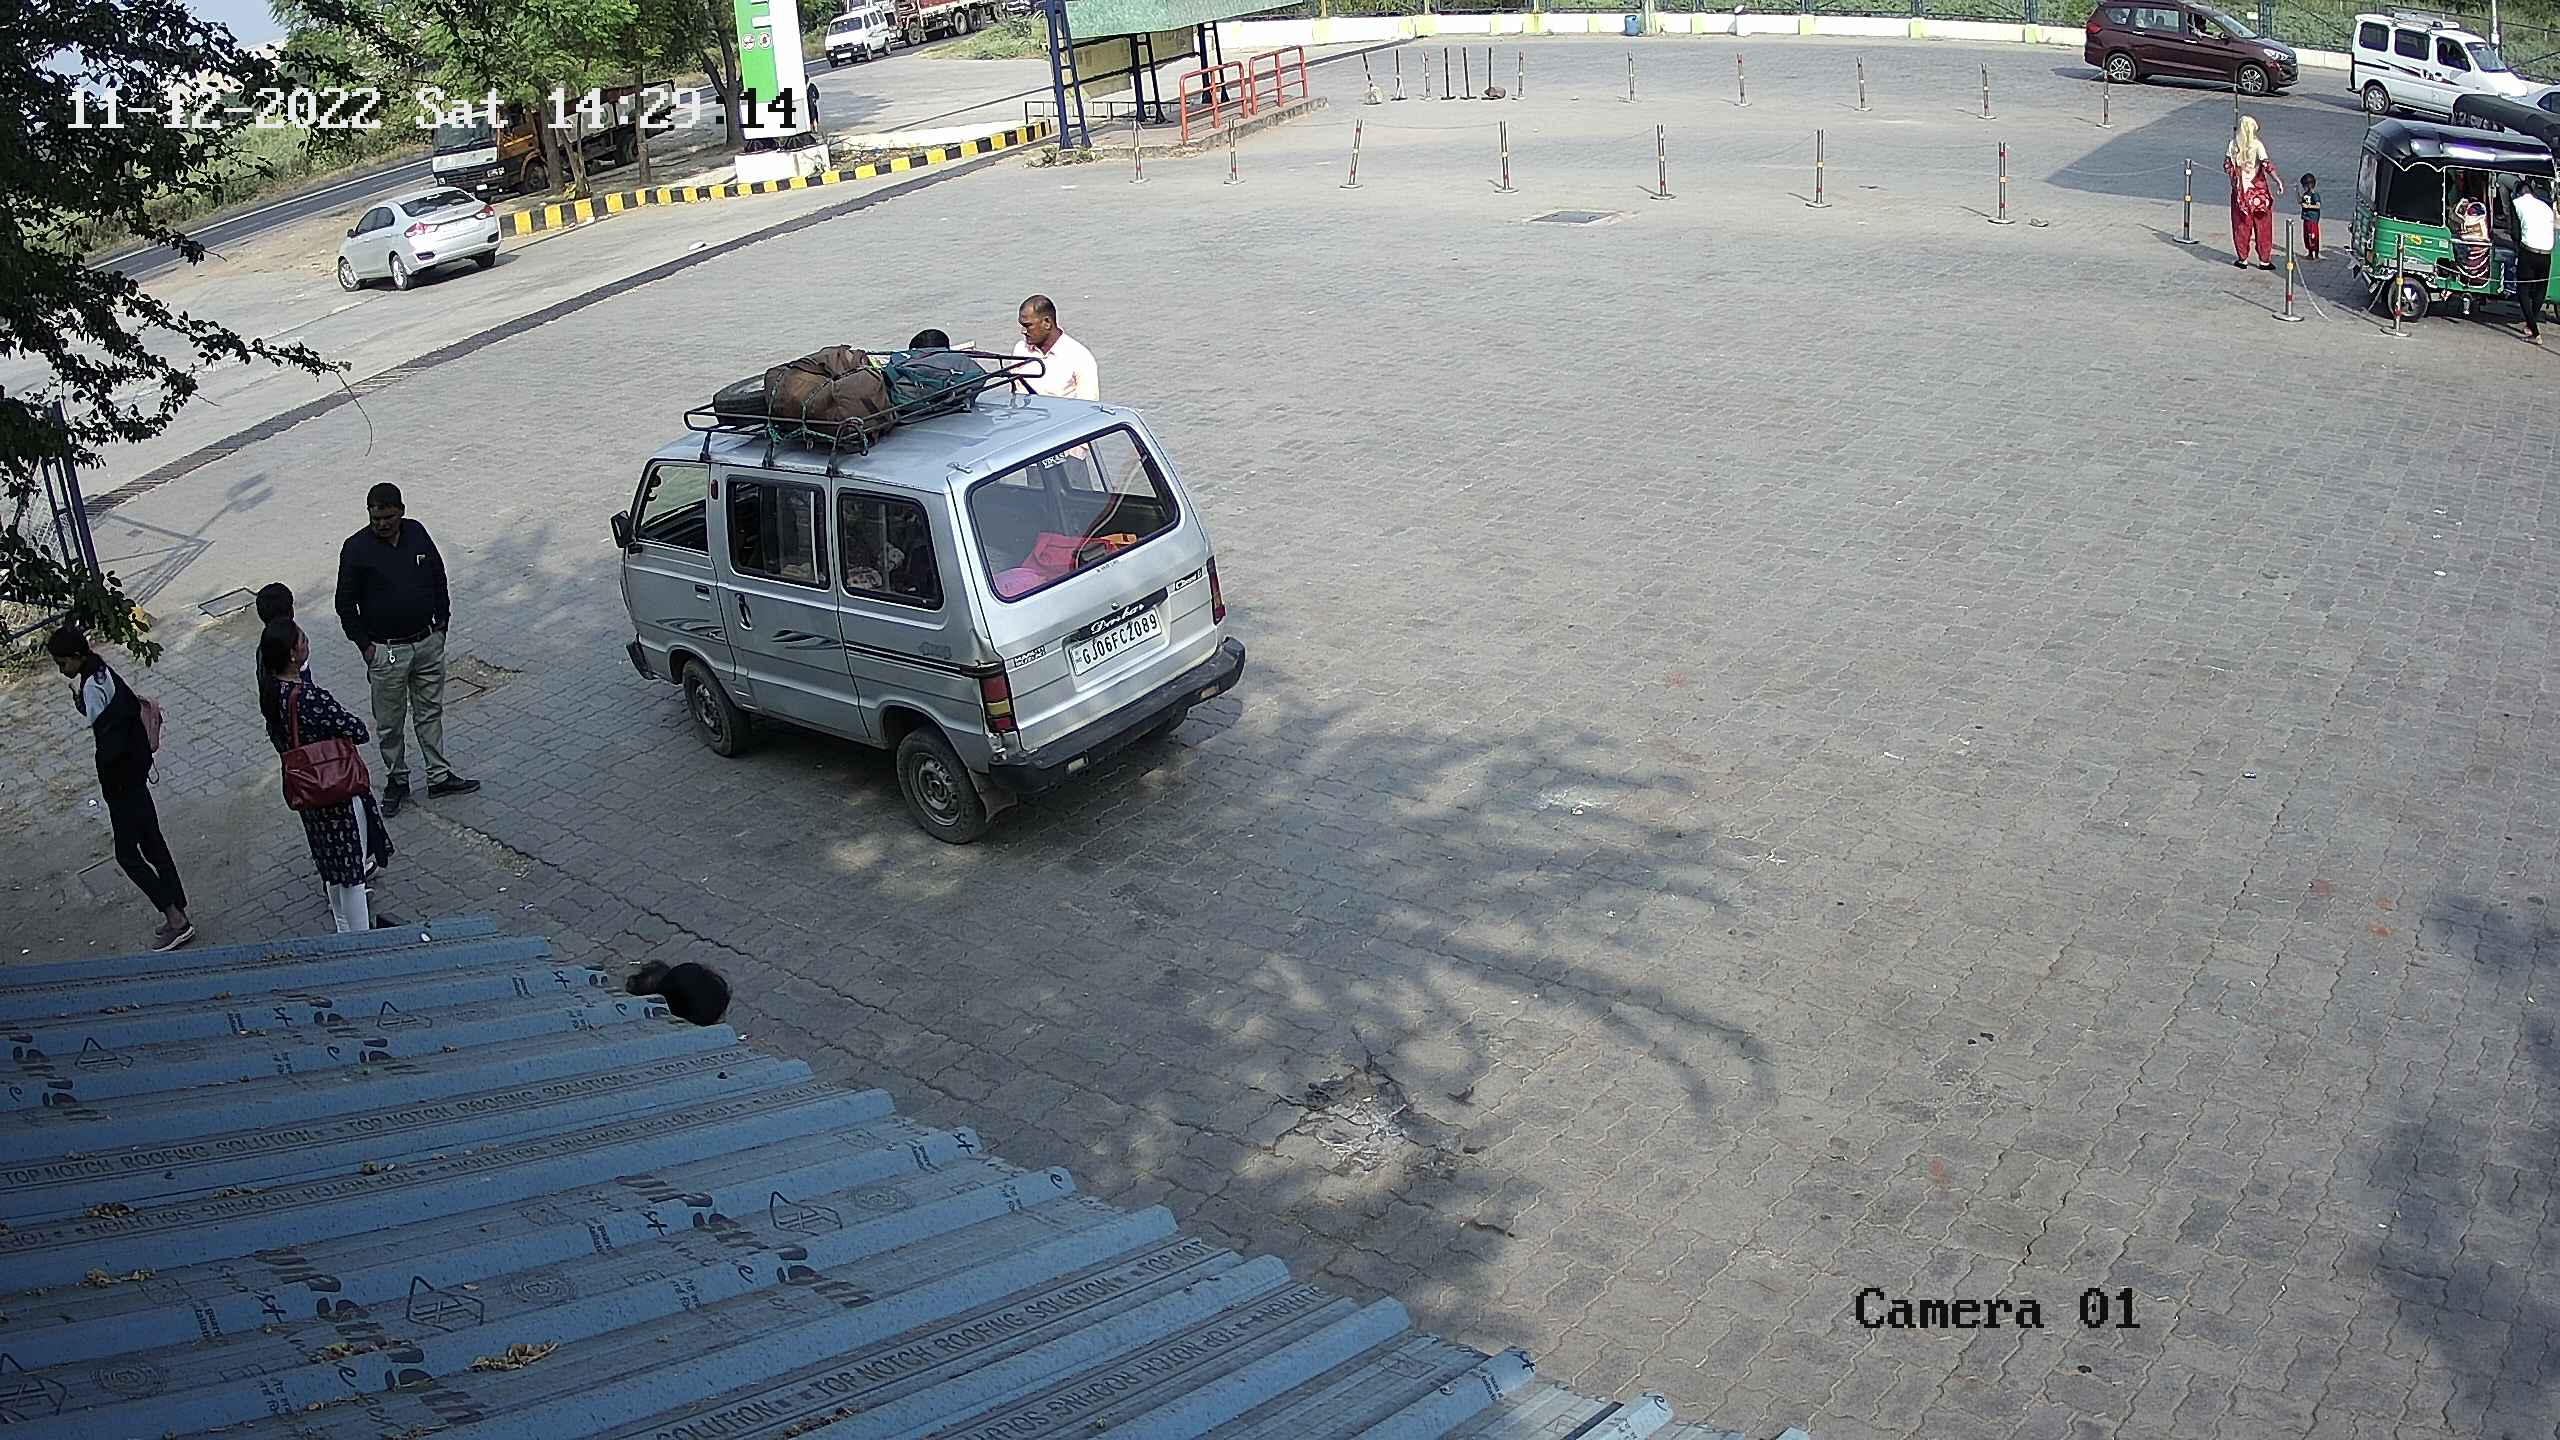Auto: (2333, 102, 2556, 339), (2439, 84, 2558, 179)
Car: (594, 322, 1252, 851), (332, 162, 526, 299), (2345, 2, 2539, 132), (2073, 2, 2303, 104), (818, 0, 907, 74), (2498, 70, 2558, 120)
HMV: (410, 69, 554, 213)
